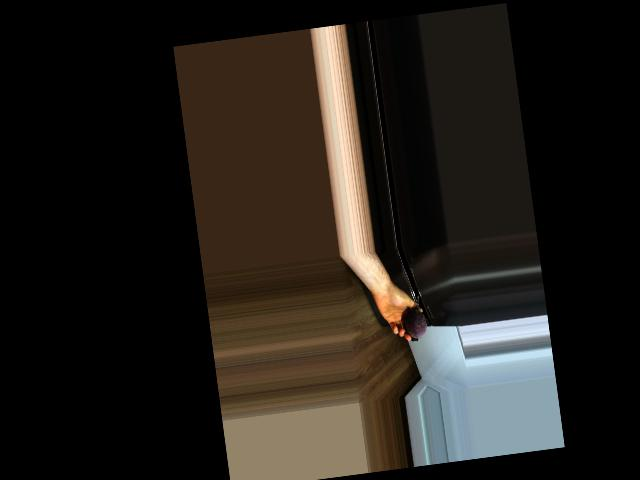beet: (401, 295, 428, 342)
